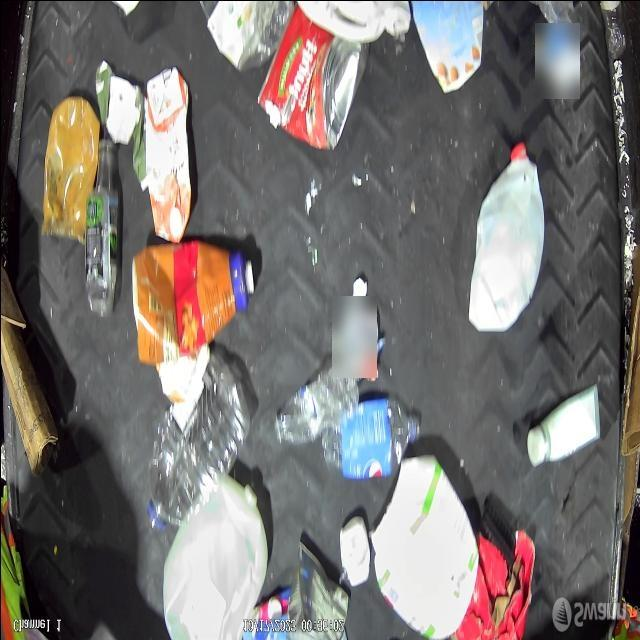milk_jug: (369, 452, 481, 638), (162, 478, 268, 636), (468, 141, 544, 332), (296, 0, 410, 42)
non_white_jug: (132, 240, 254, 364), (144, 66, 191, 242)
plastic_bottle: (146, 350, 250, 532), (320, 395, 422, 479), (272, 360, 360, 448), (84, 138, 118, 316), (599, 1, 626, 58)
